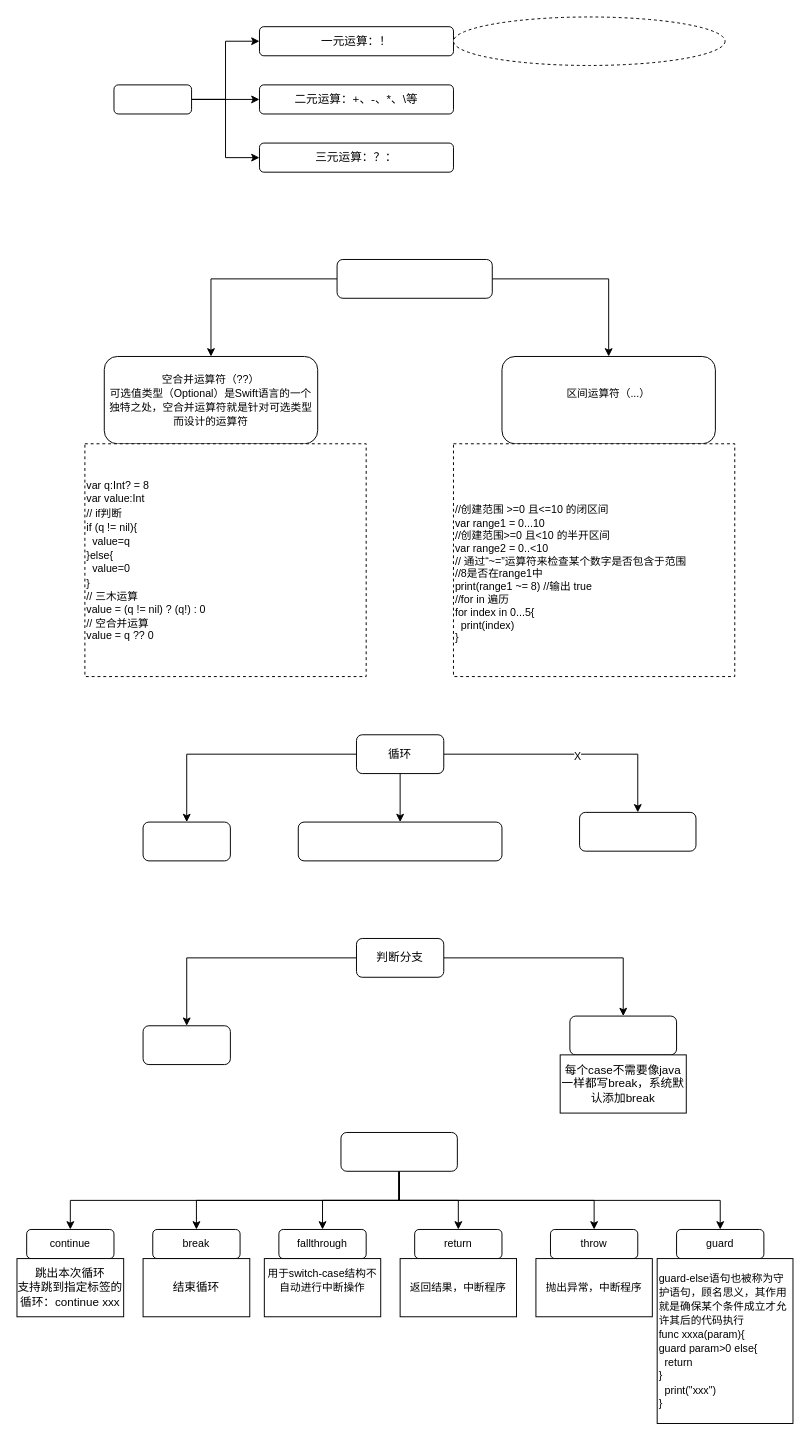
This 810x1440 diagram has some shape labels left out. The box of each missing label's shape, as (x1, y1, x2, y2) in pixels:
for in: (142, 821, 230, 861)
for（） //2.2版本已经去除: (579, 811, 696, 851)
if else: (142, 1025, 230, 1065)
swift2.2之后不支持++、--运算符，只能用+=和-=: (453, 16, 725, 65)
swift中两种特殊运算符: (336, 259, 492, 298)
switch case: (569, 1015, 677, 1055)
while repeat while(=do while): (297, 821, 502, 861)
循环中止语句: (340, 1132, 457, 1171)
运算符分类: (113, 84, 192, 114)
